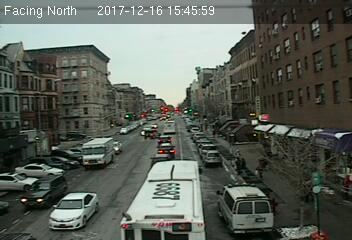bus: (117, 159, 207, 240)
car: (50, 193, 96, 228), (20, 174, 67, 204), (202, 151, 221, 165), (157, 144, 175, 156)
police: (216, 181, 274, 235)
truck: (81, 137, 113, 166), (162, 121, 175, 133)
